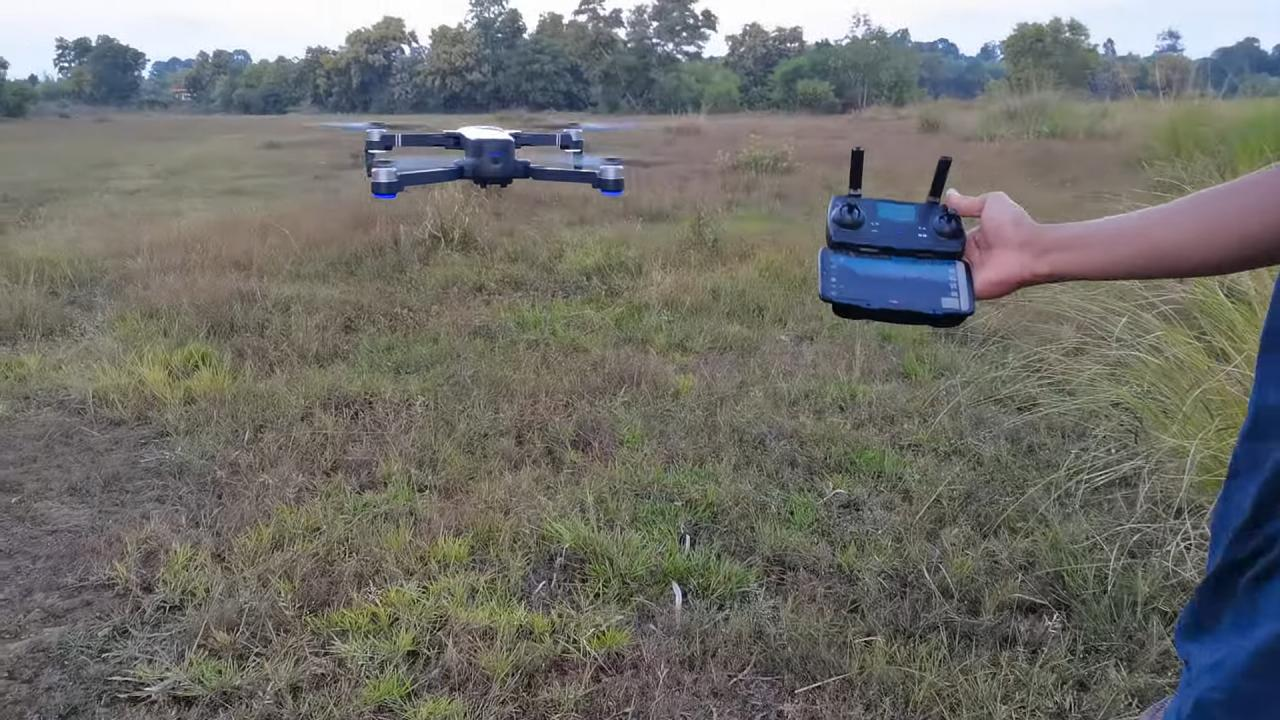Drone: (309, 99, 642, 214)
